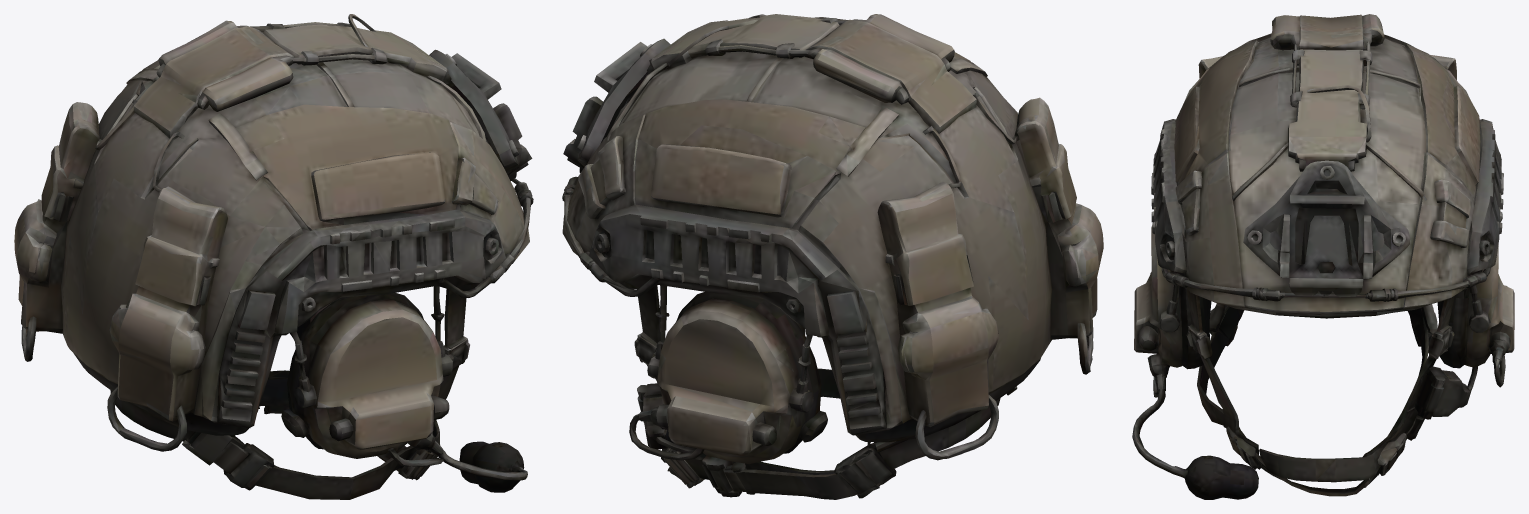
Rendered from helmet3.glb.
The picture shows the model from 3 angles, left to right: view 1: azimuth 30°, elevation 25°; view 2: azimuth 150°, elevation 25°; view 3: azimuth 270°, elevation 25°; orthographic projection. The views are drawn at different scales.
Visible parts, largest first — view 1: obj1_0; view 2: obj1_0; view 3: obj1_0.
Part boxes in pixels (<box>): obj1_0: <box>14,14,533,499</box>; obj1_0: <box>562,14,1103,499</box>; obj1_0: <box>1132,14,1514,499</box>.
Bounding box in the file's own units: 0.998 × 0.9945 × 0.8494.
Materials: 1 (1 with a texture image).
